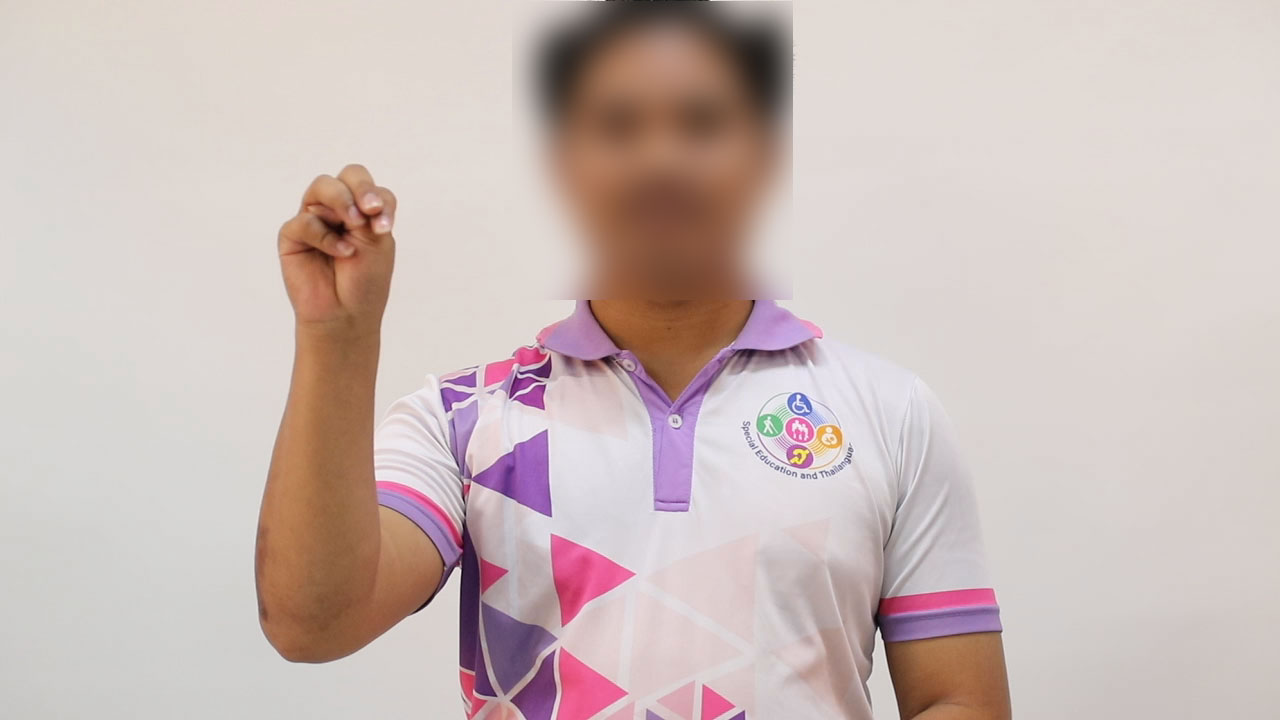mor: (266, 141, 414, 343)
